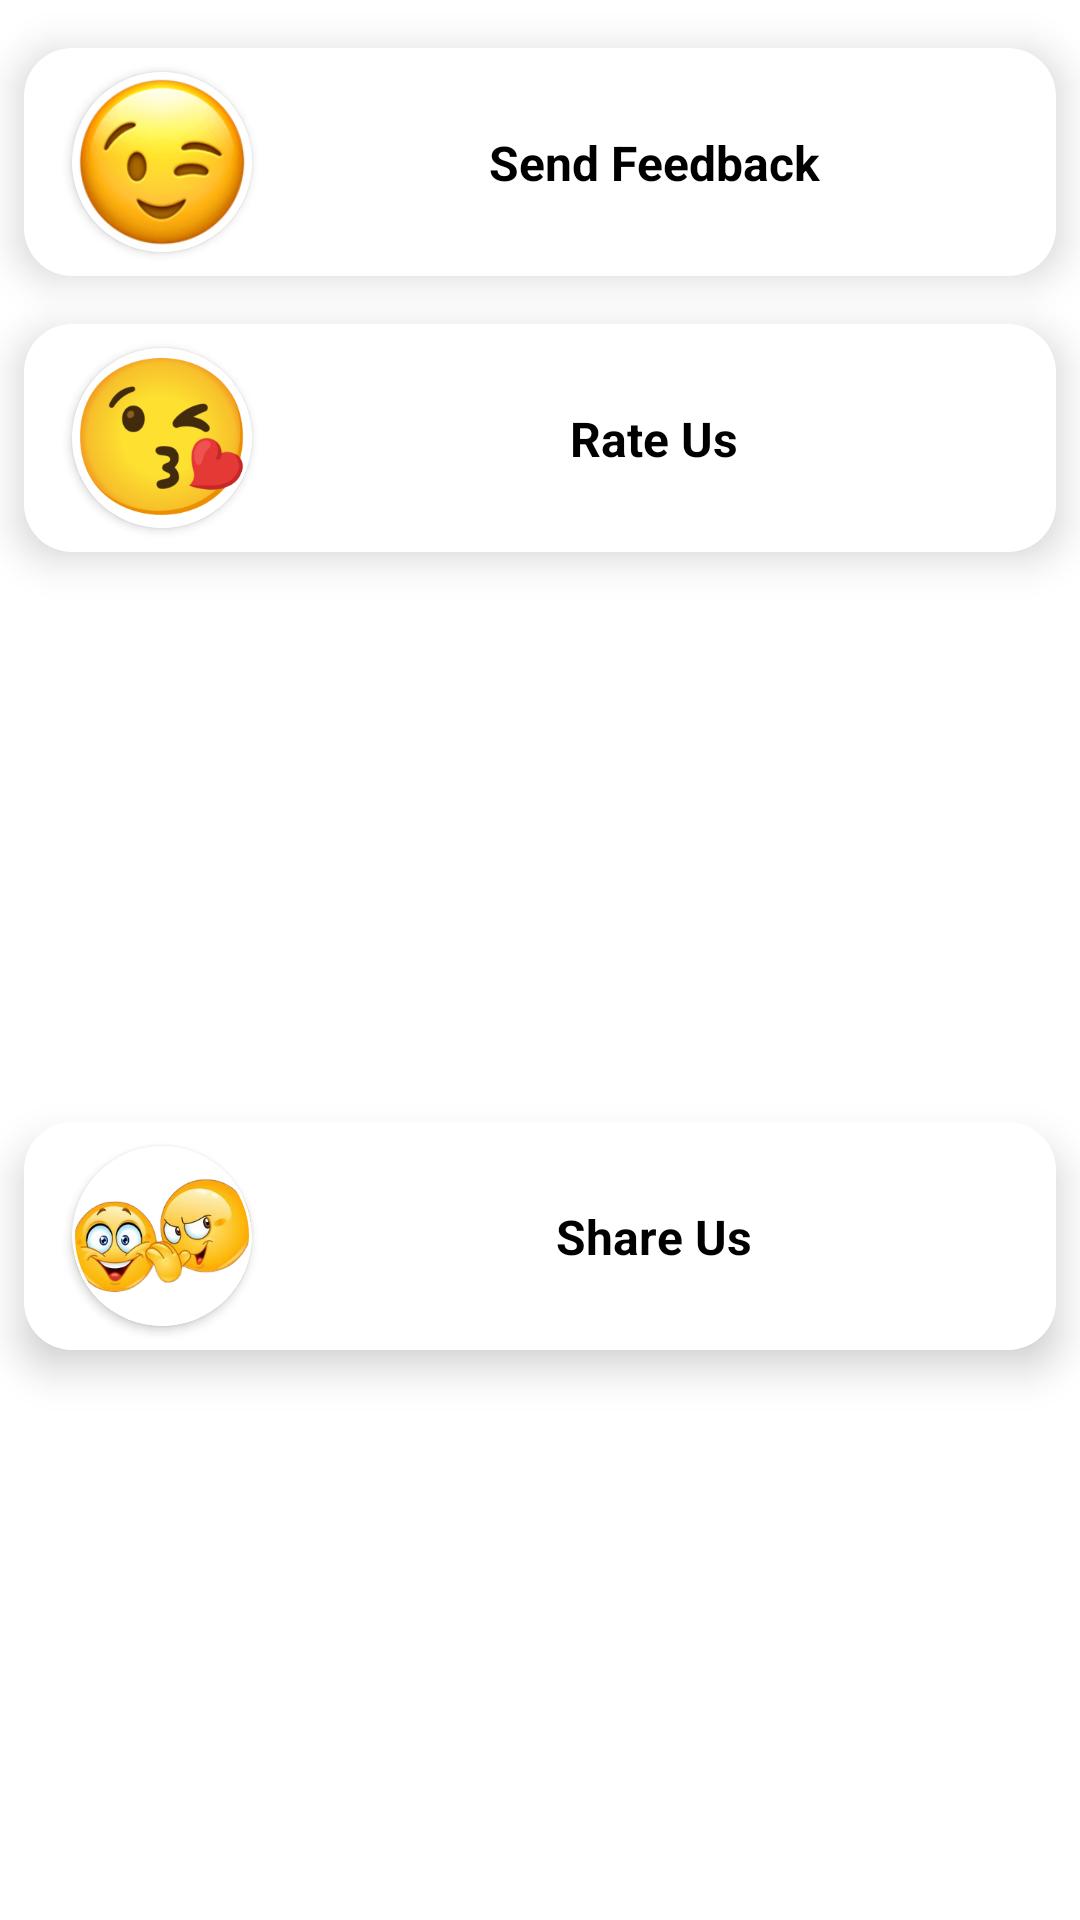

Screen size 1080×1920. Icon name, then its box in pixels as (x1, y1, x2, y2):
oneyeblinkemoji: (72, 80, 245, 252)
shareus: (72, 1179, 252, 1326)
